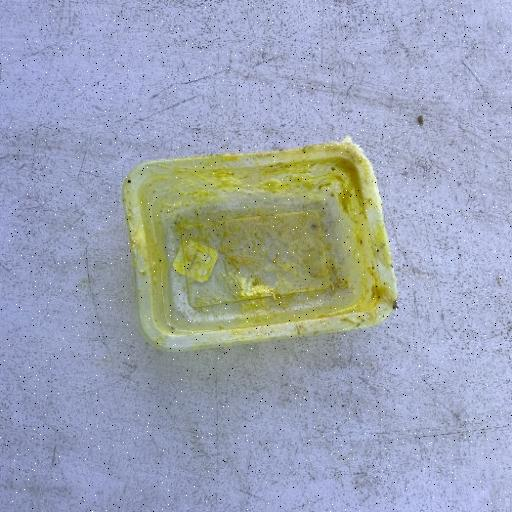Plastic: (120, 135, 400, 354)
